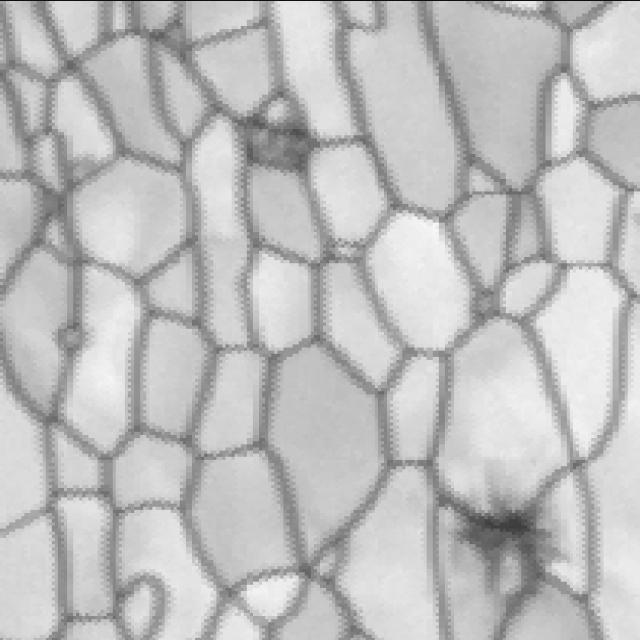good_void: (427, 472, 582, 607), (240, 100, 329, 183)
